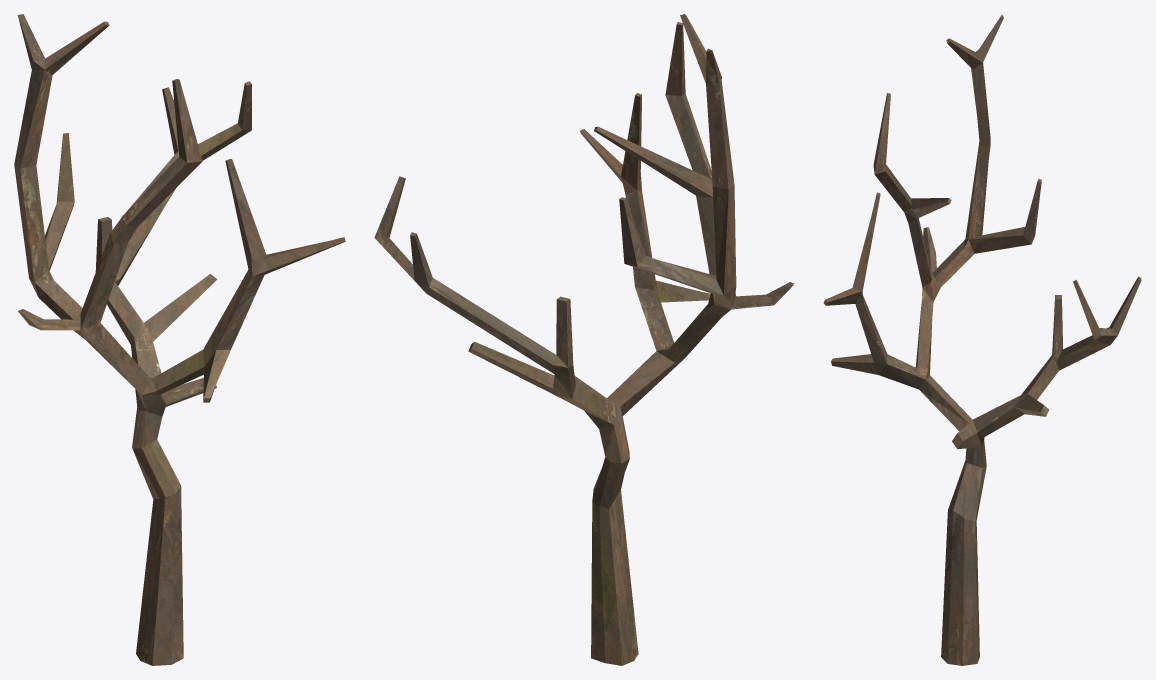
The model's file is 장애물_나무3.fbx.
3 views of the same model, side by side, from view 1: azimuth 30°, elevation 25°; view 2: azimuth 150°, elevation 25°; view 3: azimuth 270°, elevation 25° (orthographic). The views are drawn at different scales.
Parts seen in each view (by area): view 1: tree3; view 2: tree3; view 3: tree3.
Part boxes in pixels (bbox=[...]): tree3: bbox=[14, 14, 345, 665]; tree3: bbox=[374, 14, 794, 665]; tree3: bbox=[823, 14, 1141, 665].
Bounding box in the file's own units: 582 × 1118 × 545.
